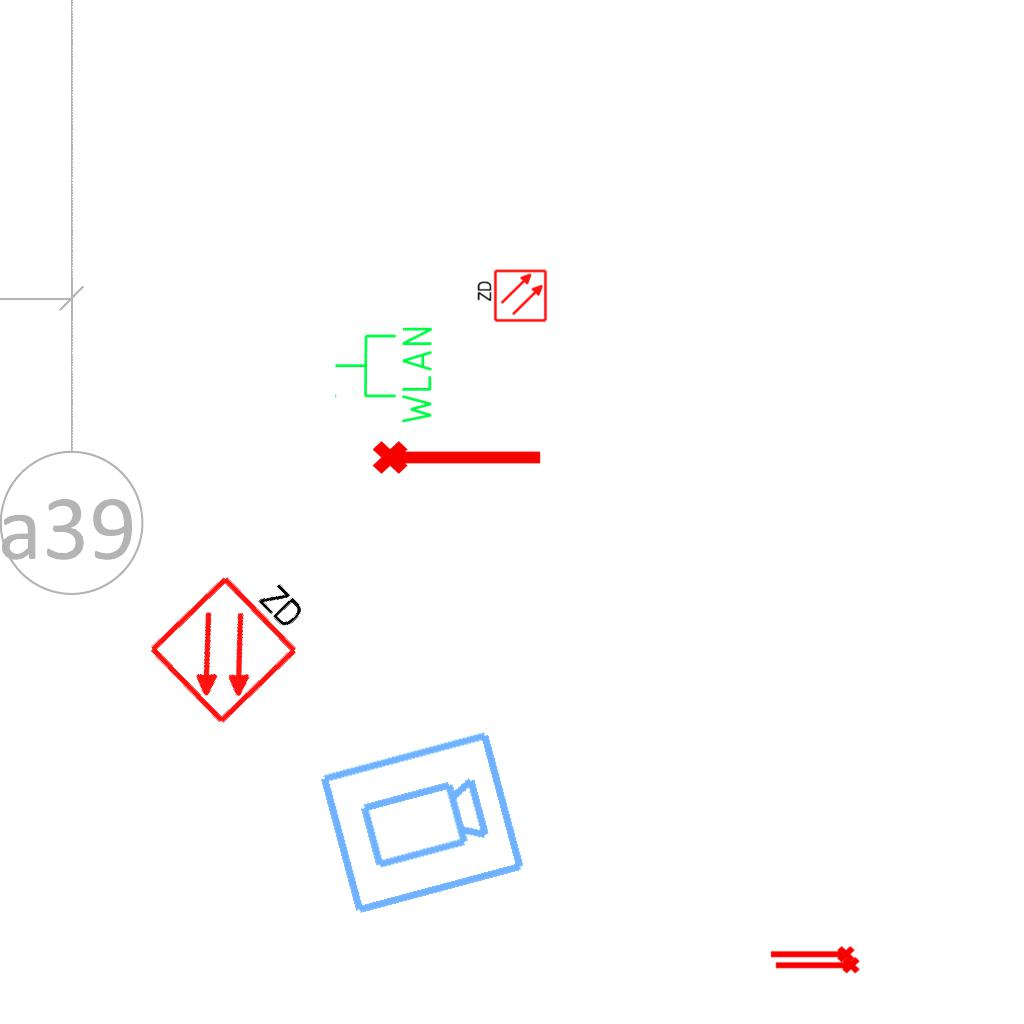ASR_Ansaugoeffnung: (370, 432, 546, 478), (768, 944, 856, 967), (773, 955, 861, 978)
KFO_Kamera_mit_Festobjektiv: (314, 726, 530, 922)
WLAN: (332, 323, 436, 428)
ZD_Melder_in_Zwischendecke_mit_Revisionsoeffnung_mind_40_x_40_cm: (142, 542, 330, 729), (474, 268, 548, 325)
